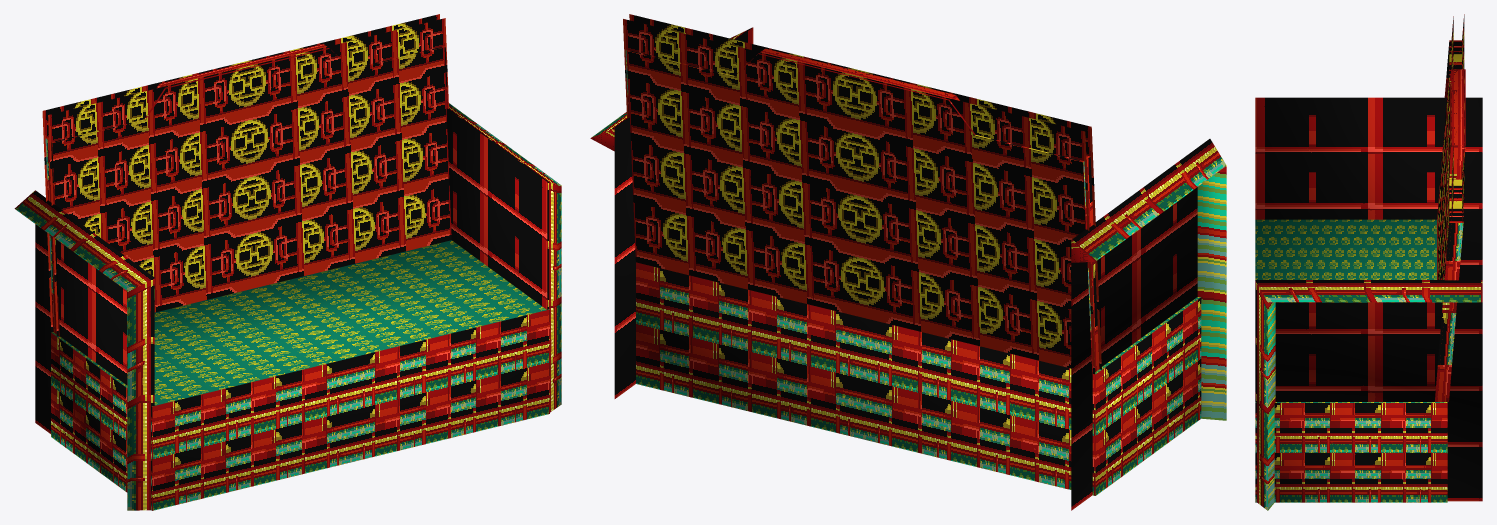
The model's file is 3095IMRL07_04.gltf.
3 views of the same model, side by side, from view 1: azimuth 30°, elevation 25°; view 2: azimuth 150°, elevation 25°; view 3: azimuth 270°, elevation 25° (orthographic). The views are drawn at different scales.
Visible parts, largest first — view 1: 3095IMRL07_04; view 2: 3095IMRL07_04; view 3: 3095IMRL07_04.
Part boxes in pixels (x1,y1,x2,y2): 3095IMRL07_04: (14,14,561,510); 3095IMRL07_04: (590,14,1226,510); 3095IMRL07_04: (1255,14,1482,510).
Size of the model in its own units: 1.91 by 1.35 by 0.9111.
Materials: 4 (4 with a texture image).
